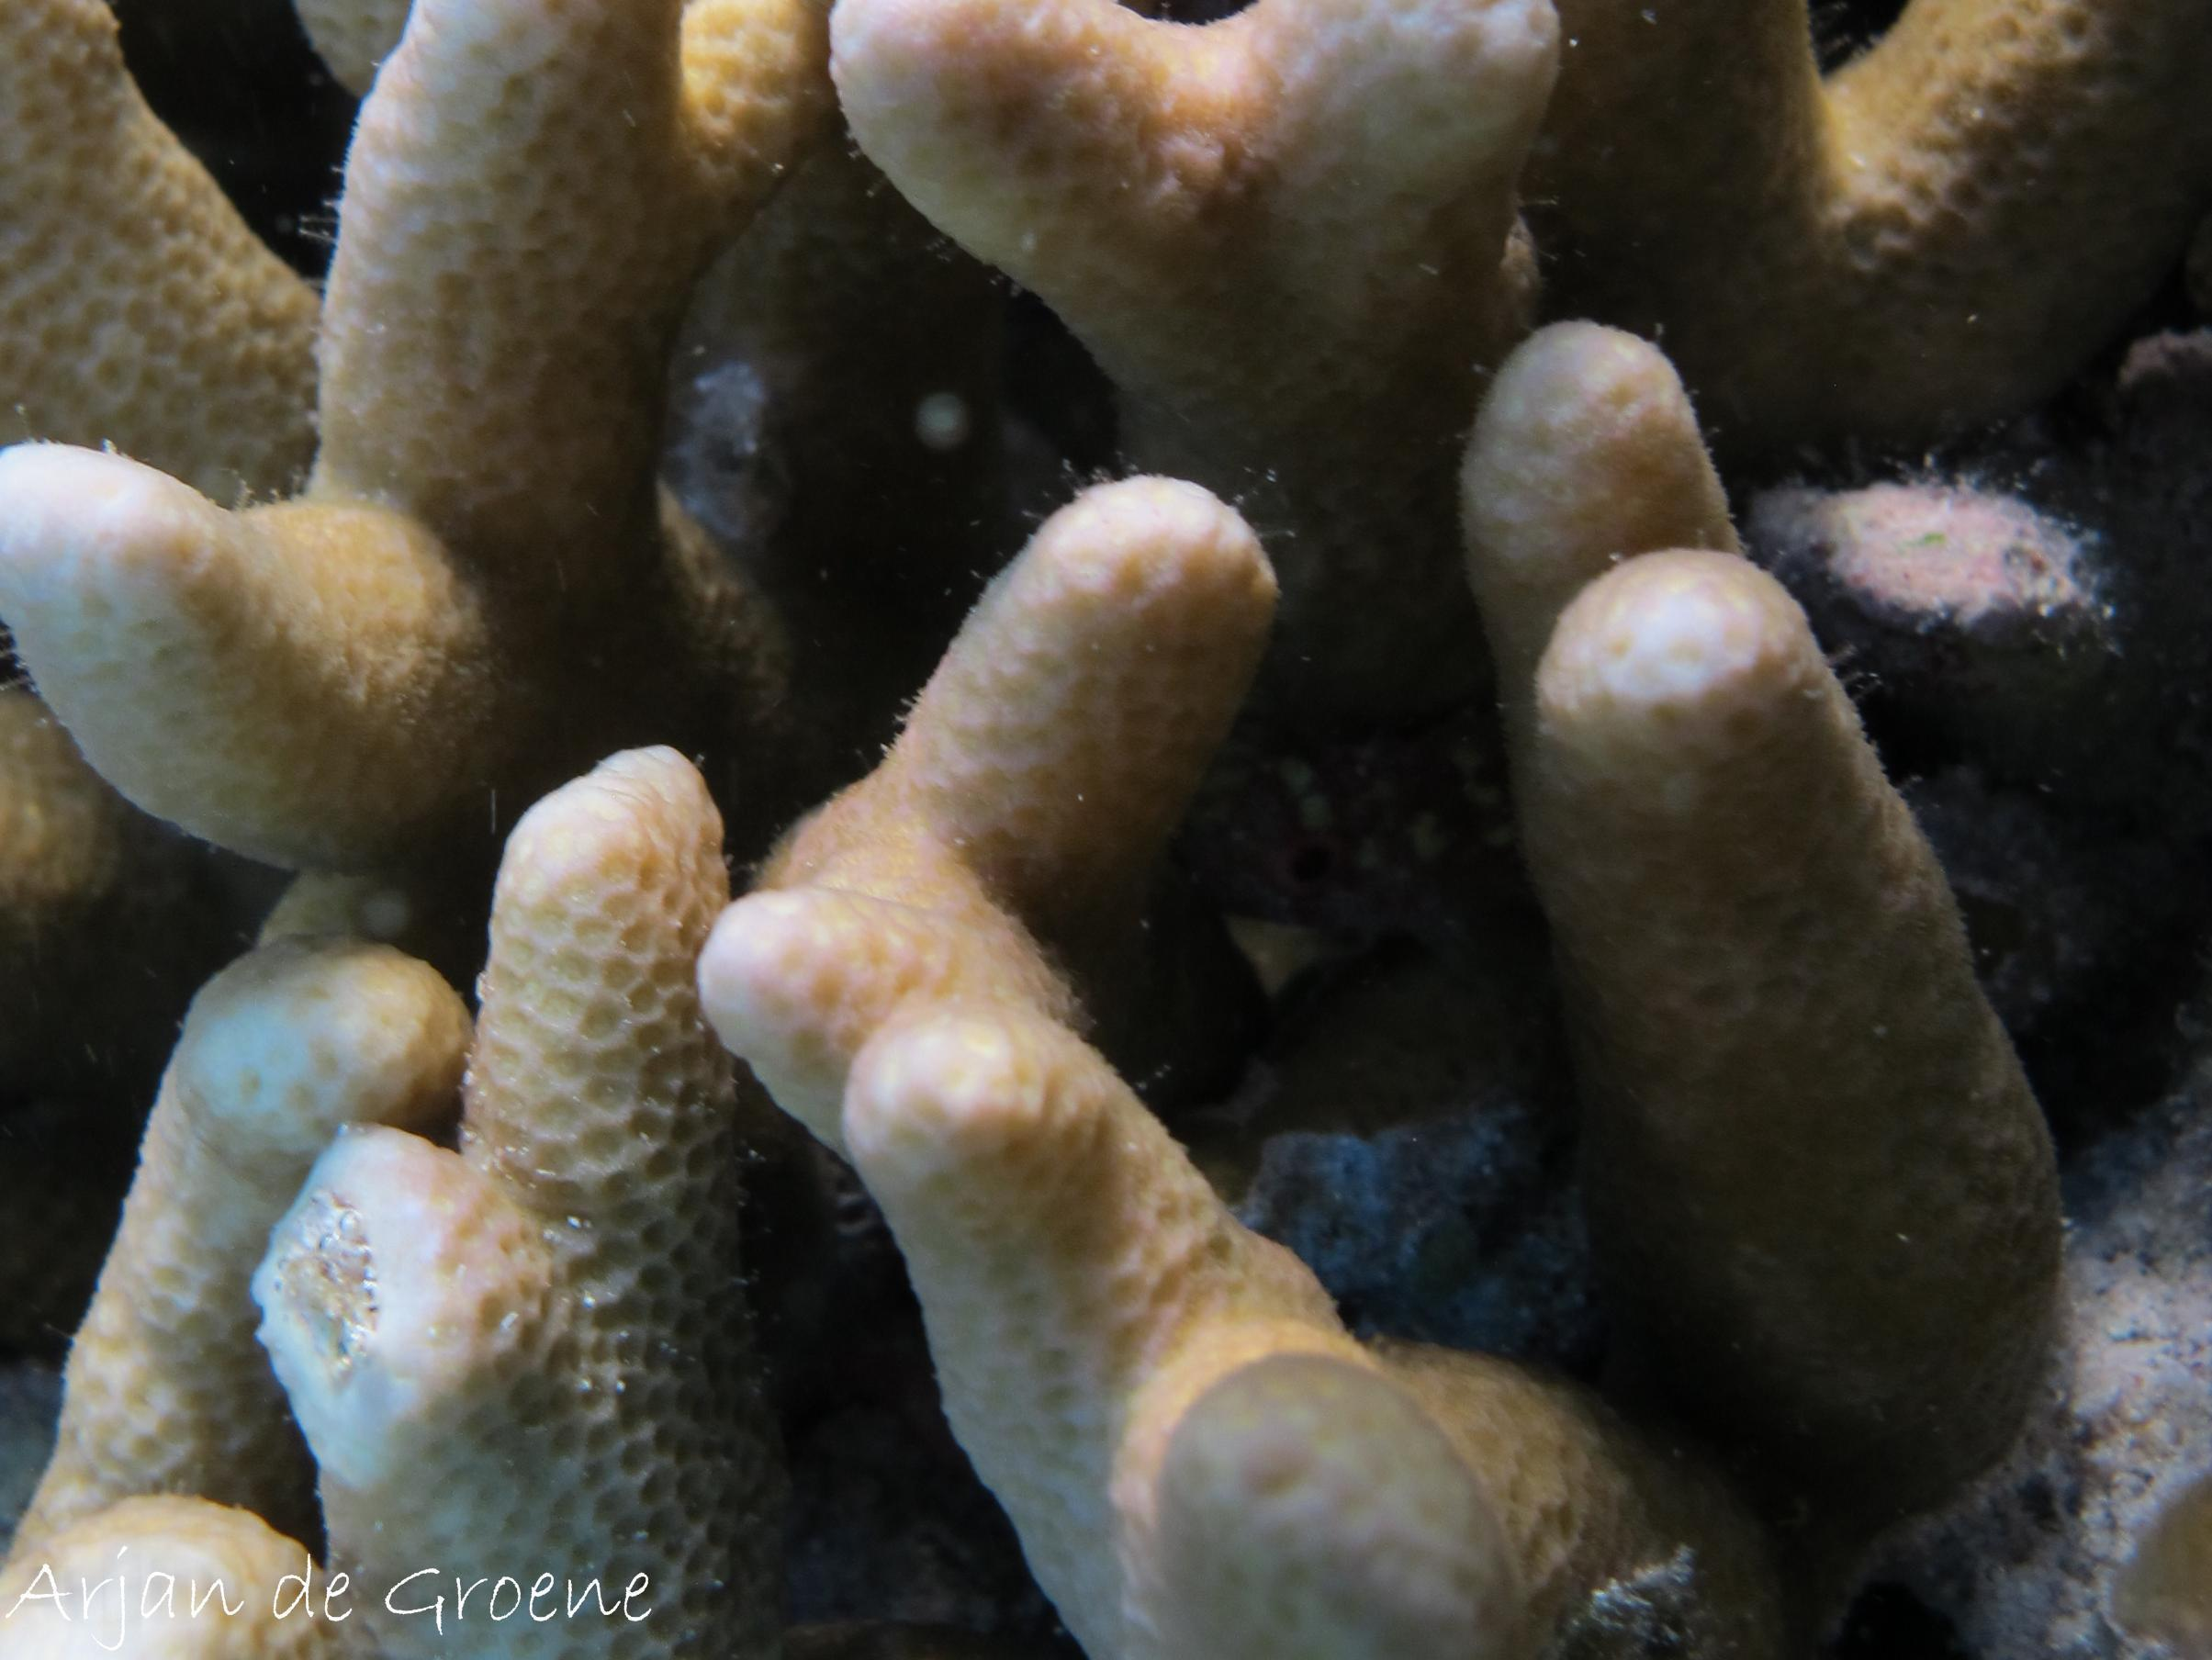Fish: (1173, 724, 1537, 982)
